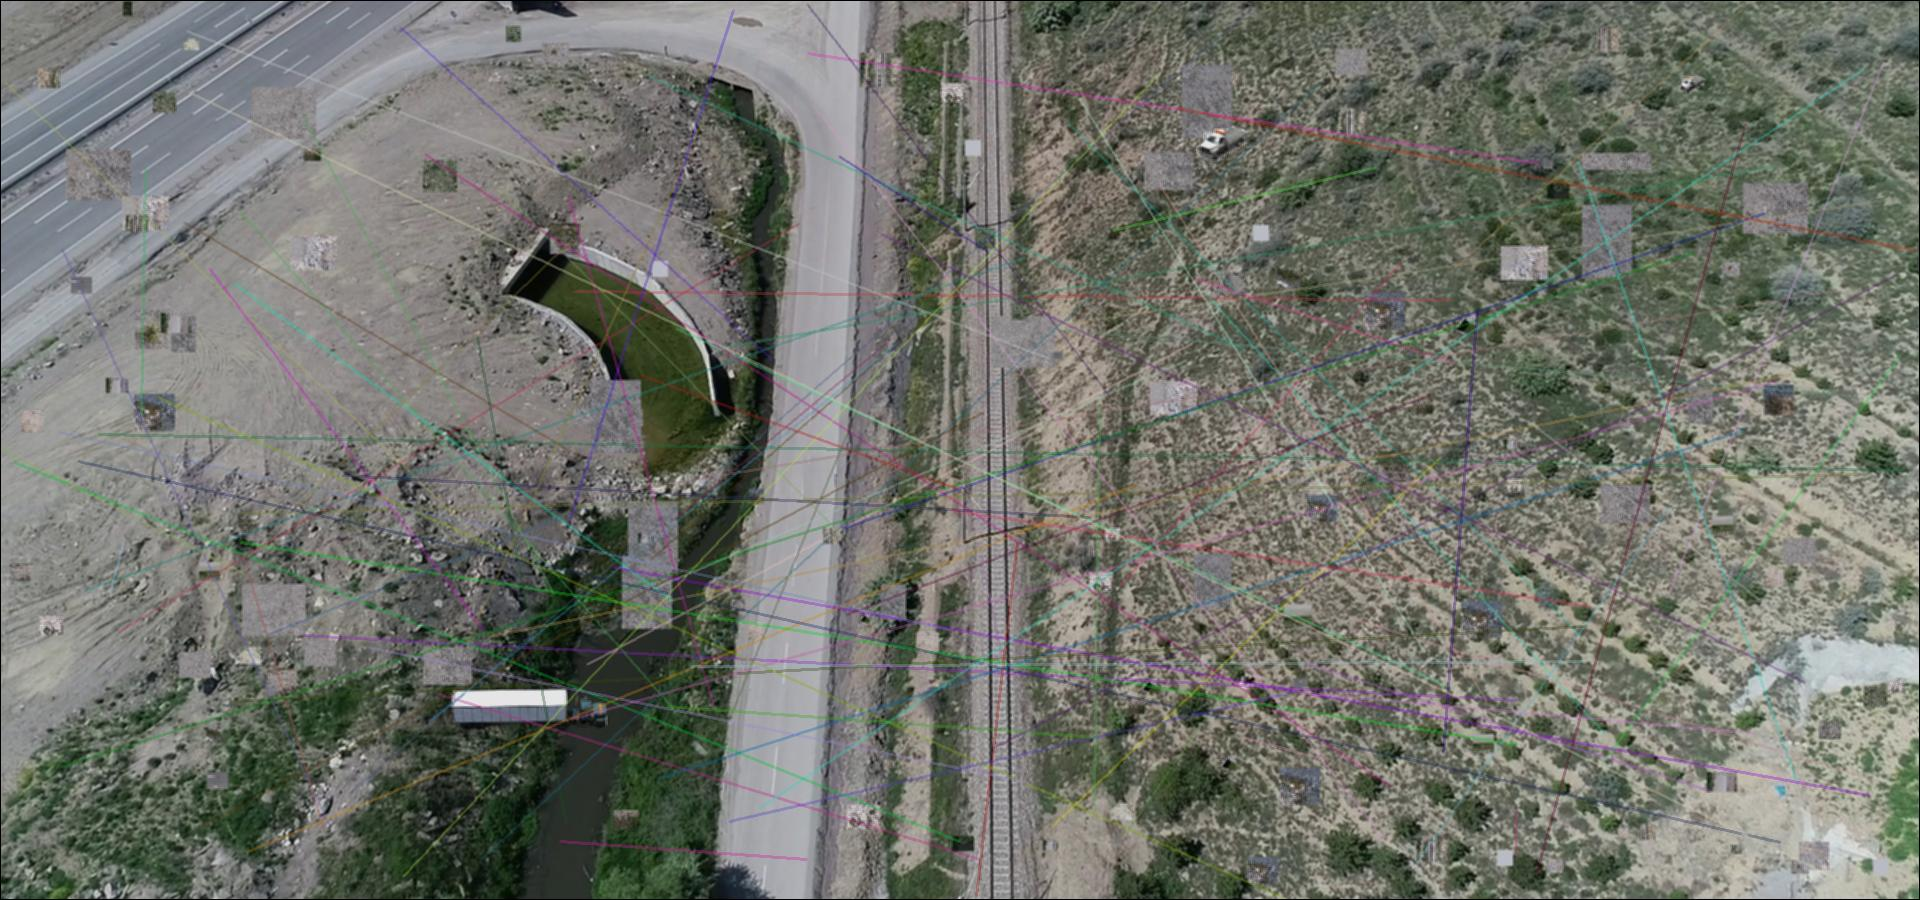arac: (449, 688, 609, 731), (1198, 122, 1249, 160), (1679, 73, 1704, 93)
